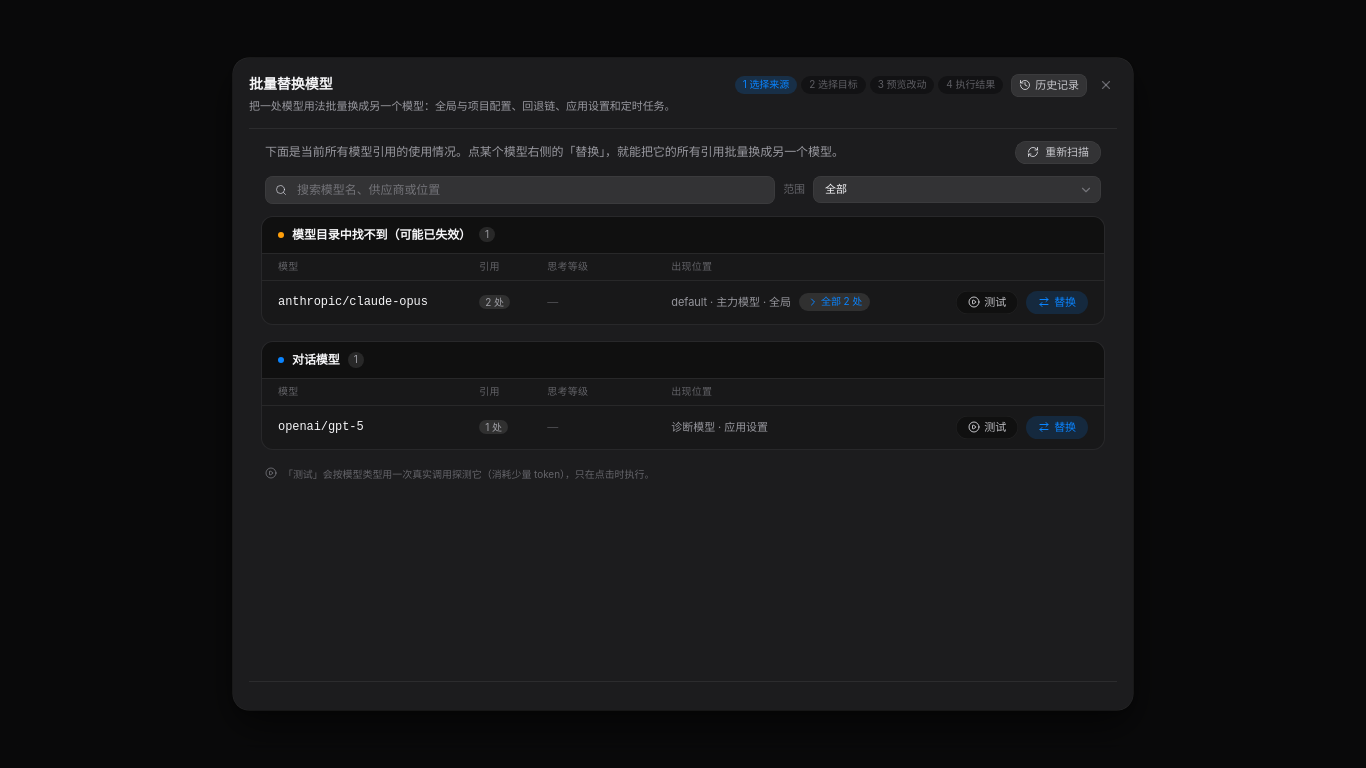
it: 批量替换模型 dialog › lists history and reports the outcome of an undo
Click the button "历史记录": (1049,85) [1011,74,1087,97]
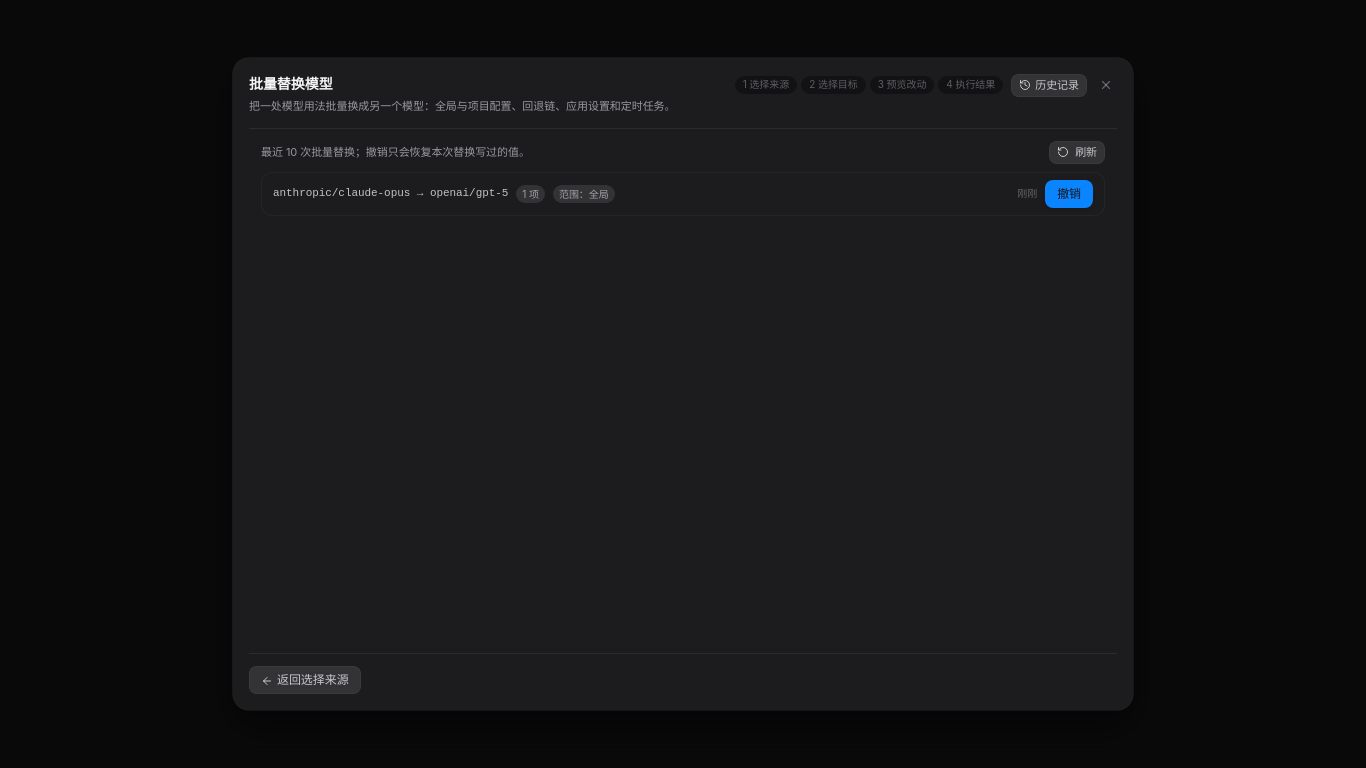
Expected: the text "anthropic/claude-opus → openai/gpt-5" is shown, [273,186,508,201]
Click the button "撤销": (1069,194) [1045,180,1093,208]
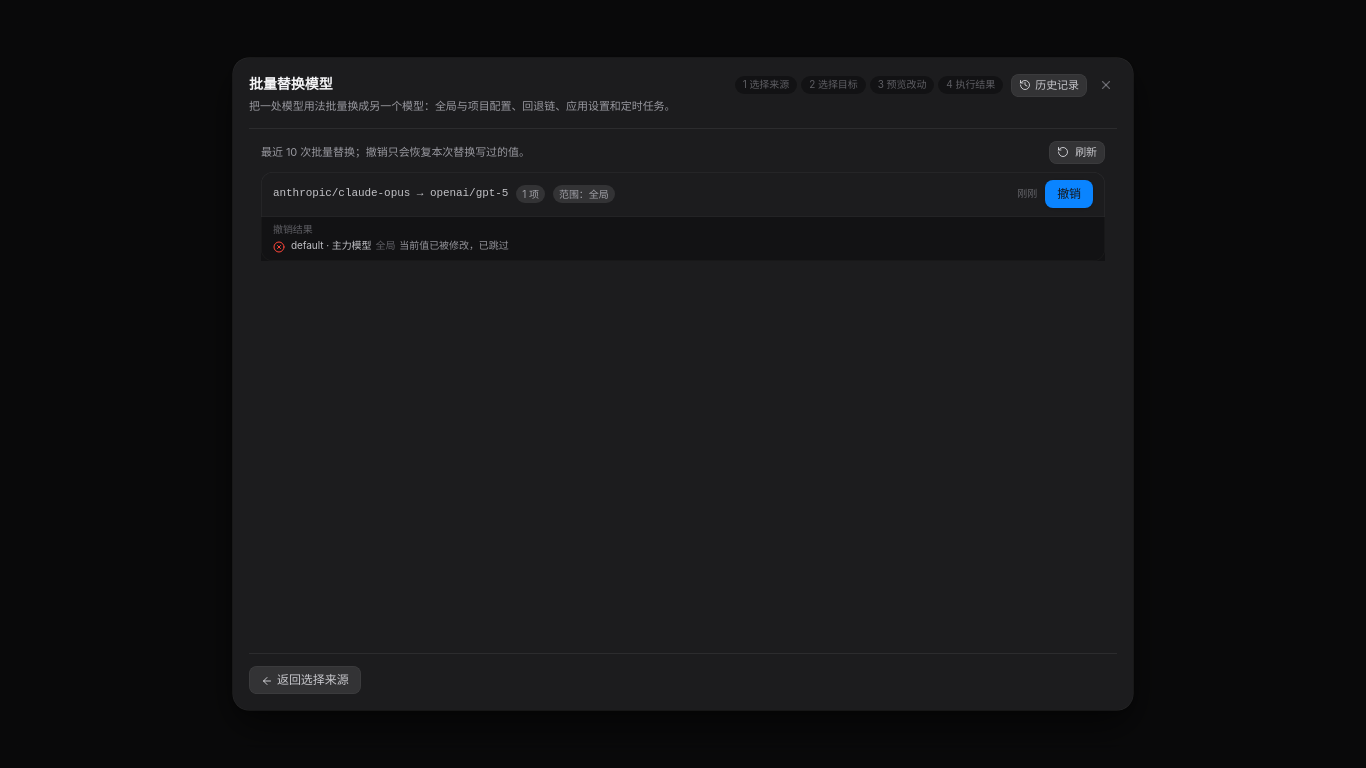
Expected: the text "当前值已被修改，已跳过" is shown, [399,239,509,251]
